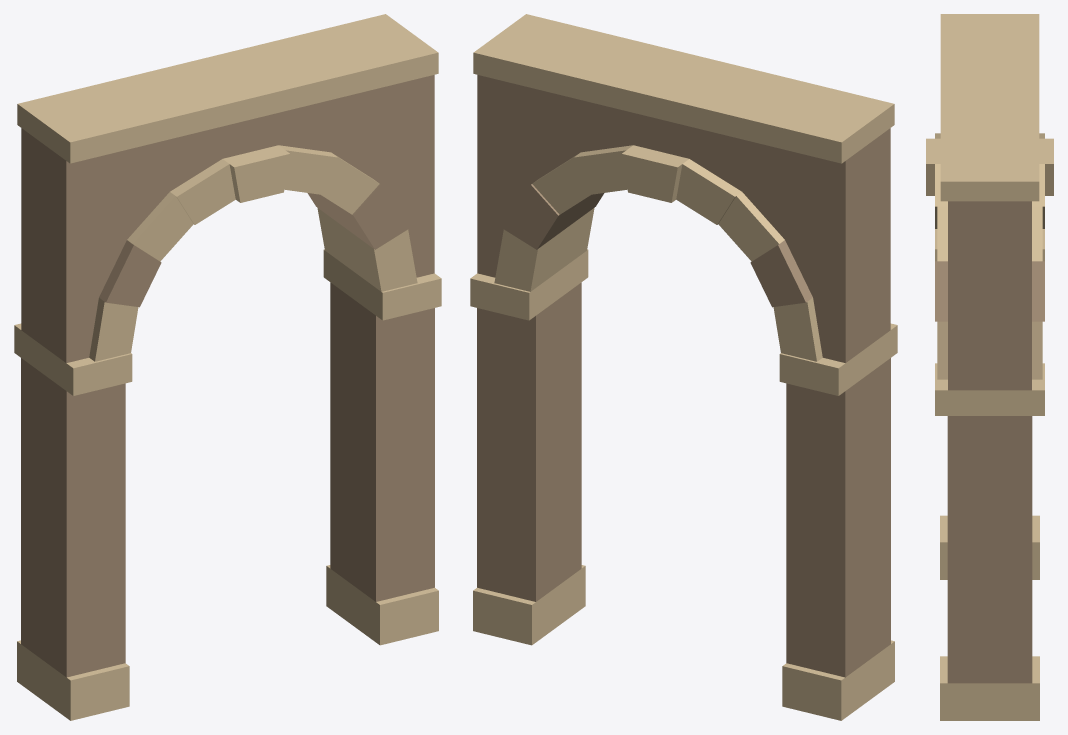
File: postern_arch.glb
3 renders of one model, left to right at view 1: azimuth 30°, elevation 25°; view 2: azimuth 150°, elevation 25°; view 3: azimuth 270°, elevation 25°, orthographic. The views are drawn at different scales.
Visible parts, largest first — view 1: Postern arch; view 2: Postern arch; view 3: Postern arch.
Boxes of the visible parts, box(x1,y1,x2,y2) form: Postern arch: box(14, 14, 441, 720); Postern arch: box(470, 14, 897, 720); Postern arch: box(926, 14, 1053, 720).
Size of the model in its own units: 1 by 1.5 by 0.322.
